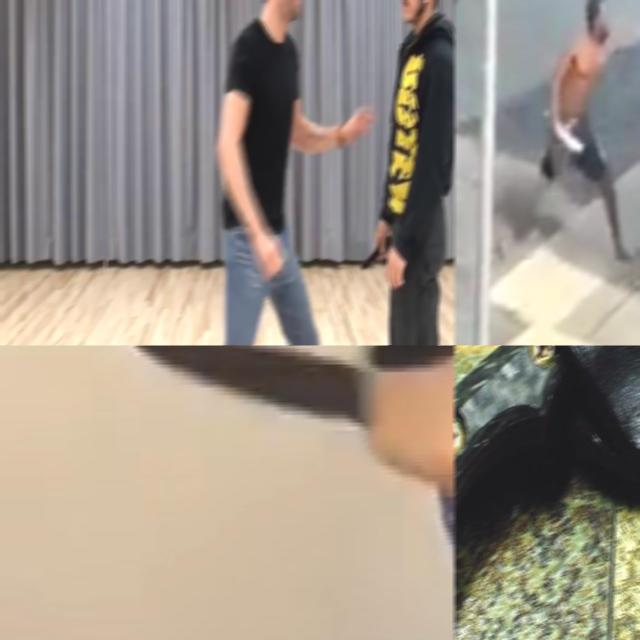Knife: (112, 345, 370, 429), (556, 130, 583, 152)
Knife_Handle: (107, 345, 454, 484), (360, 215, 392, 270), (550, 124, 586, 156)
